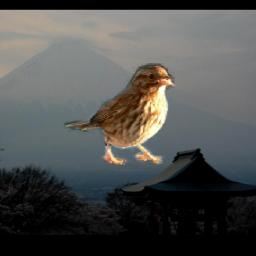Sparrow: (62, 64, 175, 165)
